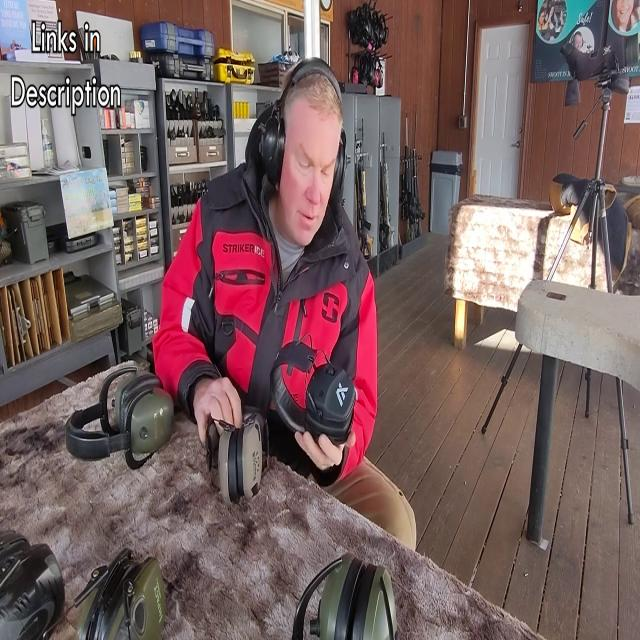earmuff: (119, 387, 179, 458), (304, 353, 358, 428), (256, 103, 285, 184), (330, 132, 356, 212)
